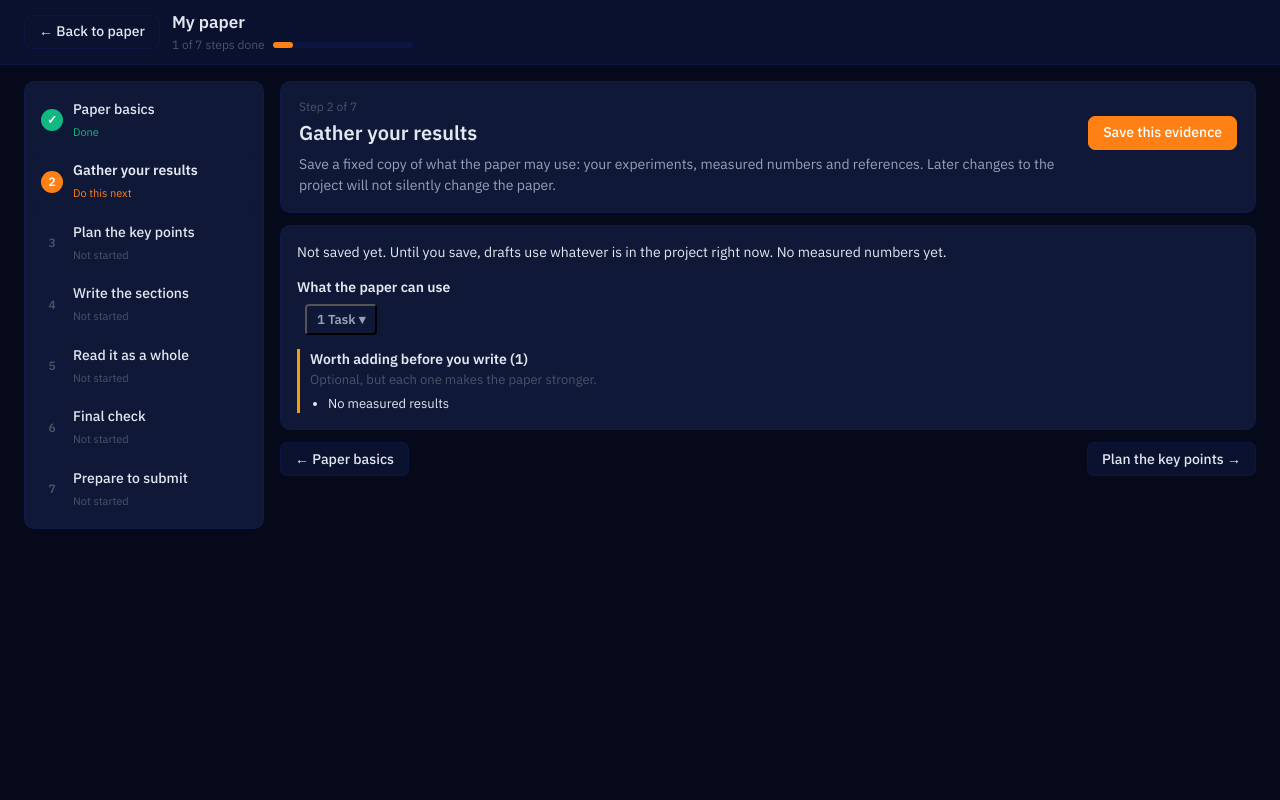
Test case: PaperStudioPage › writes a section from one experiment into this paper
Click the button "4 Write the sections Not started" at (144, 305), box [33,274,255,336]
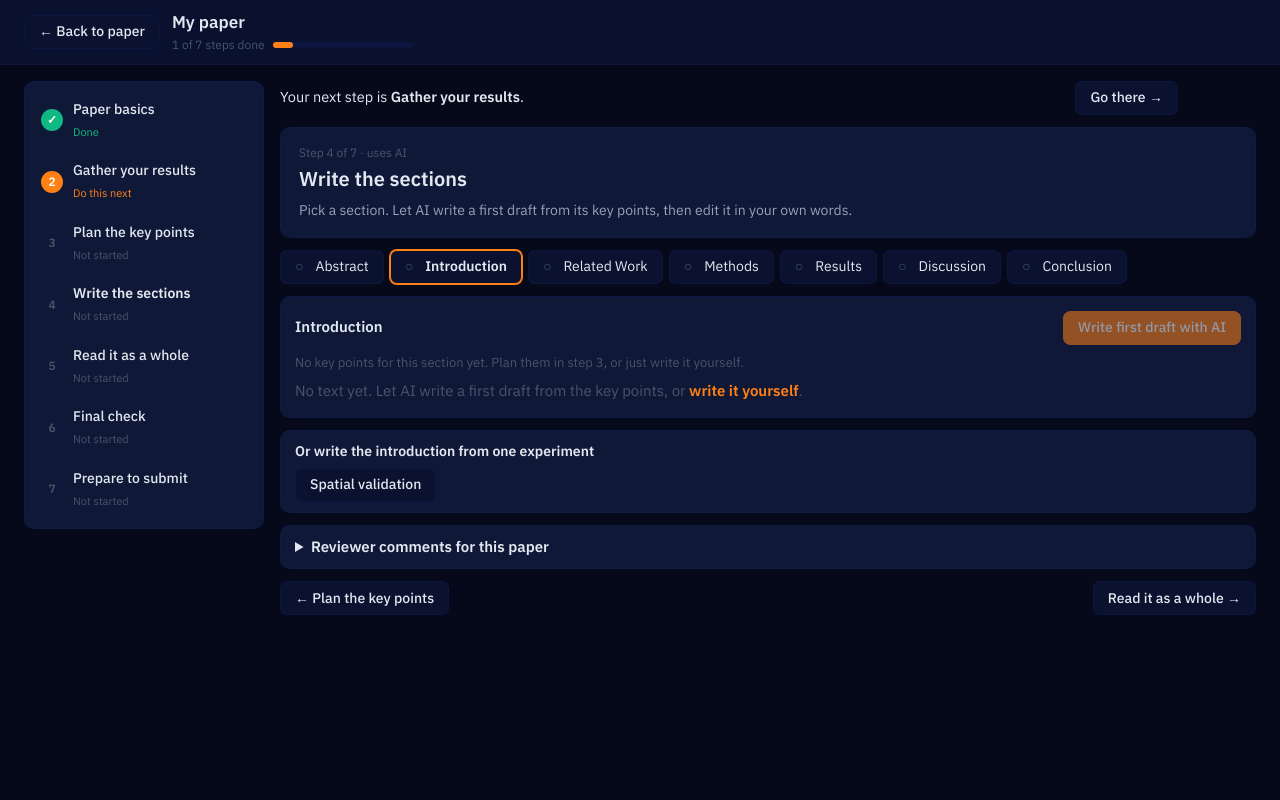
Click the tab "○ results" at (828, 266), box [780,250,877,284]
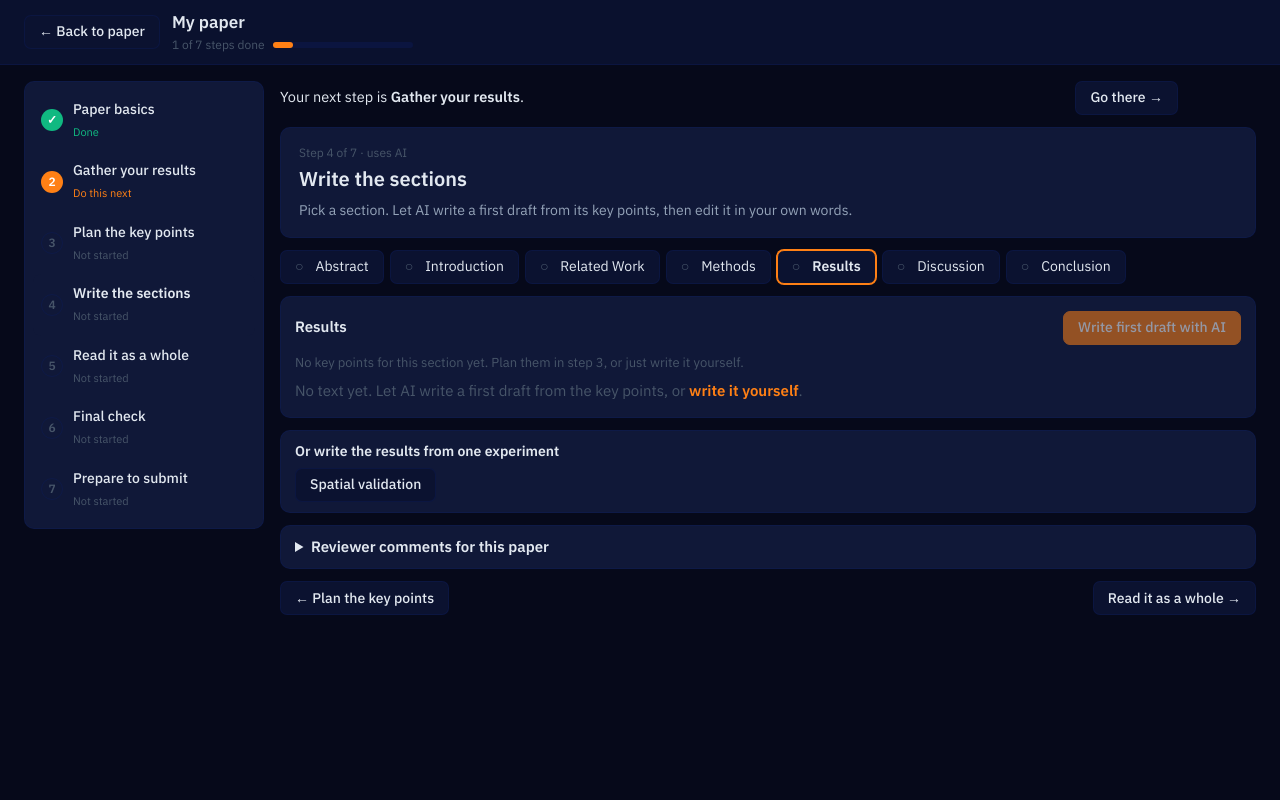
Click the button "Spatial validation" at (366, 484), box [295,468,436,502]
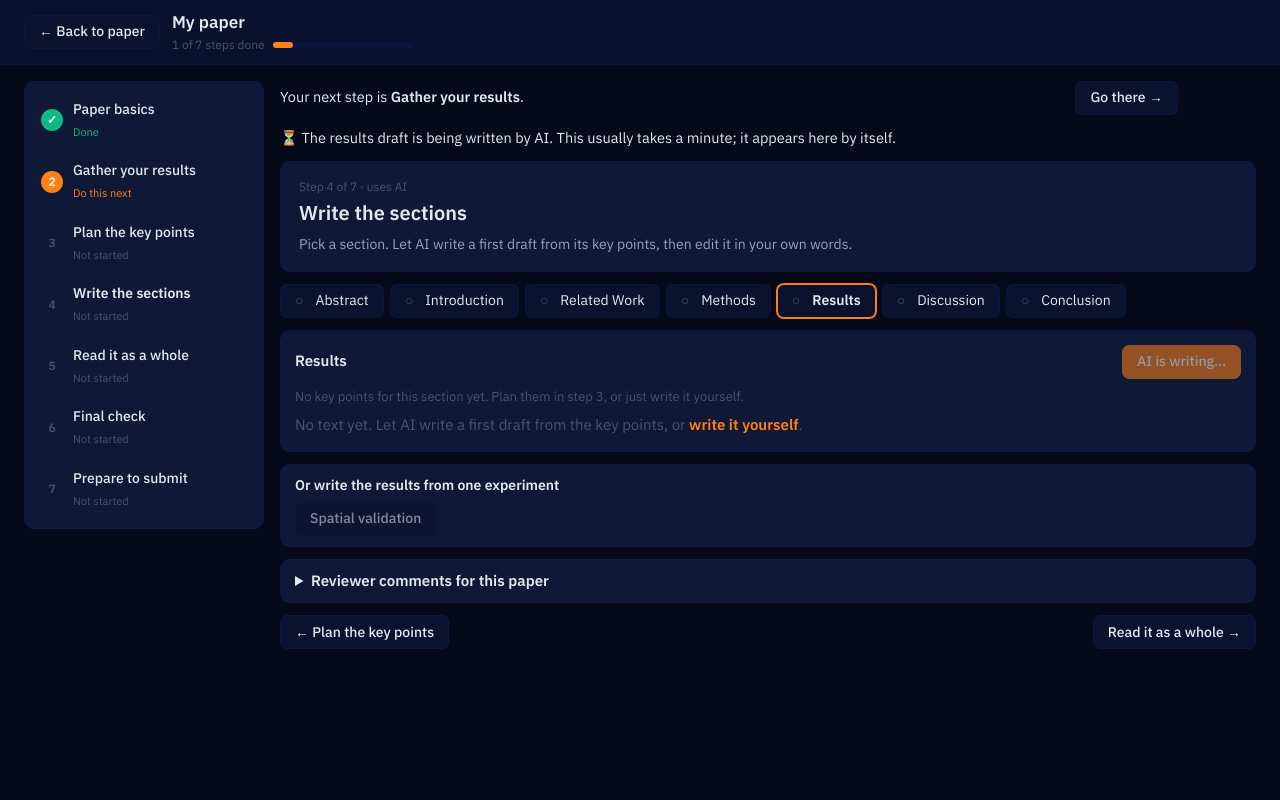
Expected: the text "being written by AI" is shown, [409,128,896,146]
